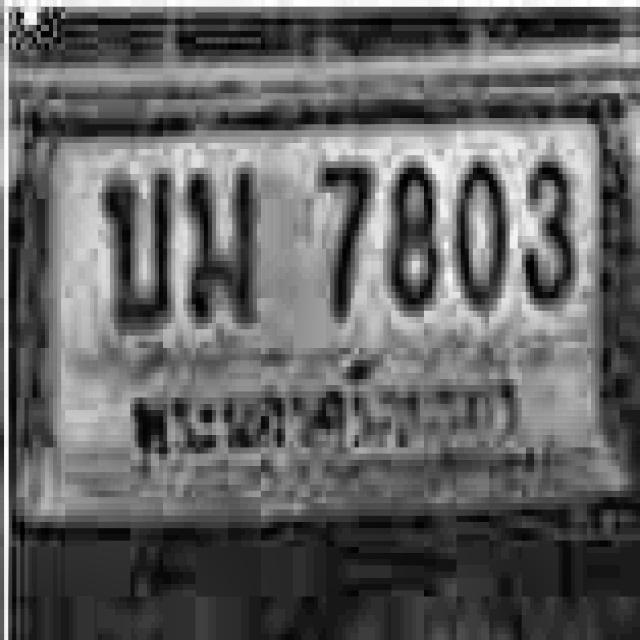license-plate: (19, 71, 636, 520)
